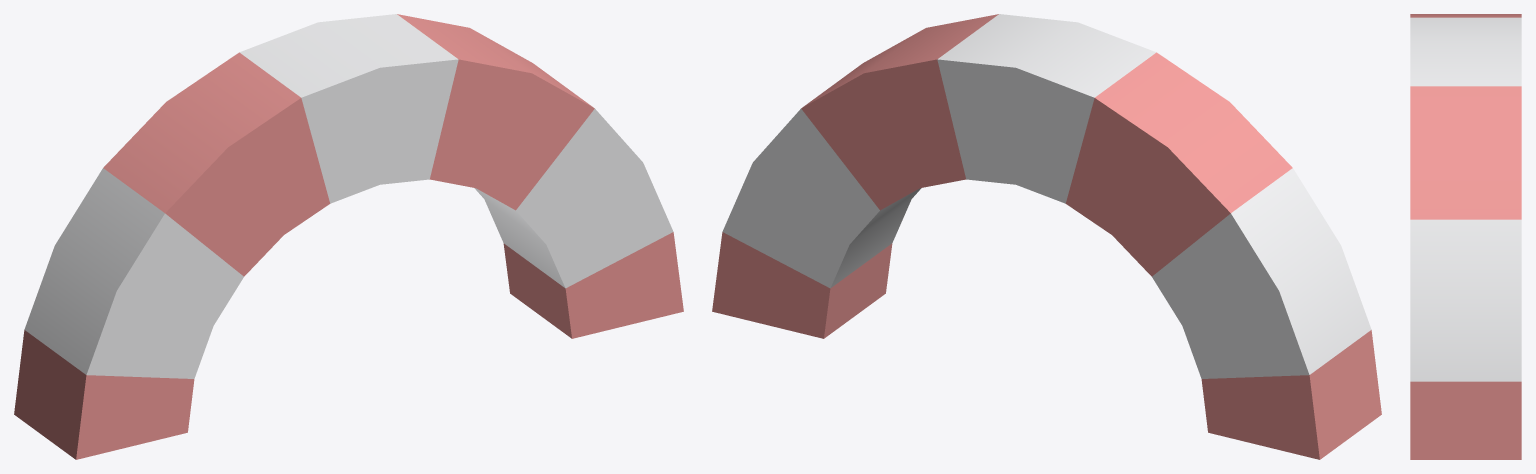
The model's file is overheadRoundColored.glb.
3 renders of one model, left to right at view 1: azimuth 30°, elevation 25°; view 2: azimuth 150°, elevation 25°; view 3: azimuth 270°, elevation 25°, orthographic. The views are drawn at different scales.
Parts seen in each view (by area): view 1: overheadRoundColored; view 2: overheadRoundColored; view 3: overheadRoundColored.
Boxes of the visible parts, left/top/right/bottom form: overheadRoundColored: left=14, top=14, right=683, bottom=459; overheadRoundColored: left=712, top=14, right=1381, bottom=459; overheadRoundColored: left=1410, top=14, right=1521, bottom=459.
Bounding box in the file's own units: 1.87 × 0.9334 × 0.33.
